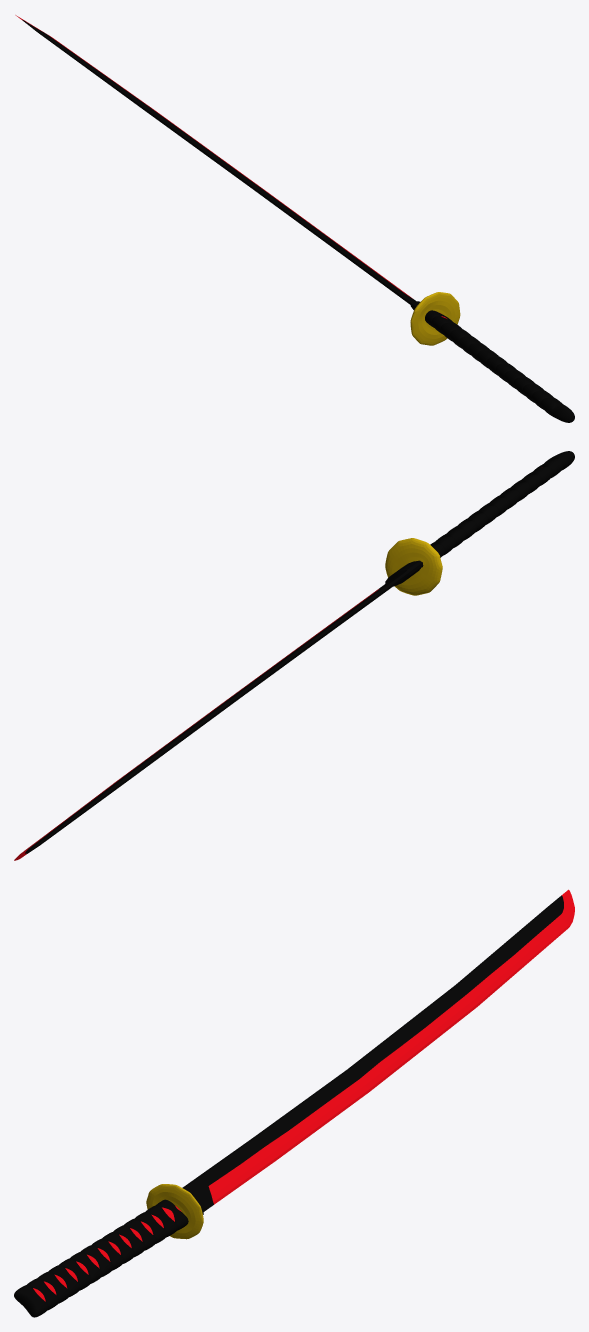
The model's file is Katana.fbx.
The picture shows the model from 3 angles, top to bottom: view 1: azimuth 30°, elevation 25°; view 2: azimuth 150°, elevation 25°; view 3: azimuth 330°, elevation 25°; orthographic projection. The views are drawn at different scales.
Visible parts, largest first — view 1: Catana; view 2: Catana; view 3: Catana.
Part boxes in pixels (x1=…): Catana: x1=15, y1=15, x2=574, y2=422; Catana: x1=14, y1=451, x2=574, y2=860; Catana: x1=14, y1=889, x2=574, y2=1317.
Bounding box in the file's own units: 74.39 × 73.1 × 1328.
